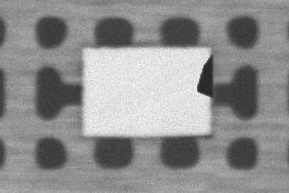DIE_BROKEN: (195, 51, 213, 98)
